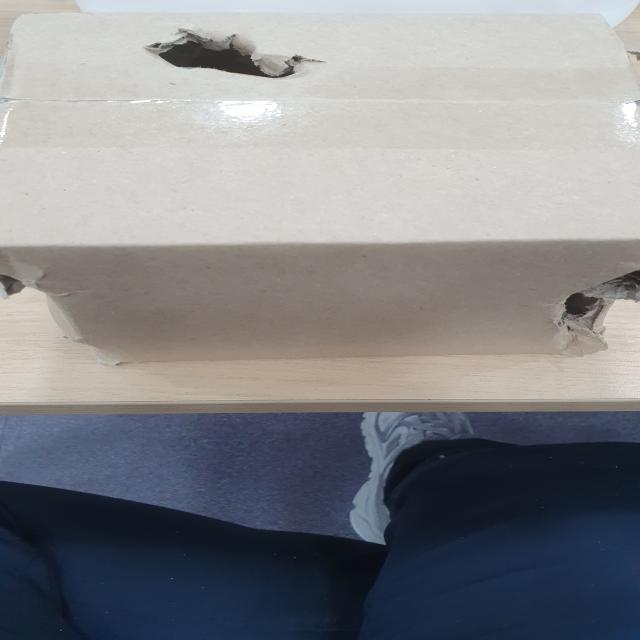hole: (140, 30, 322, 86), (561, 269, 633, 328)
